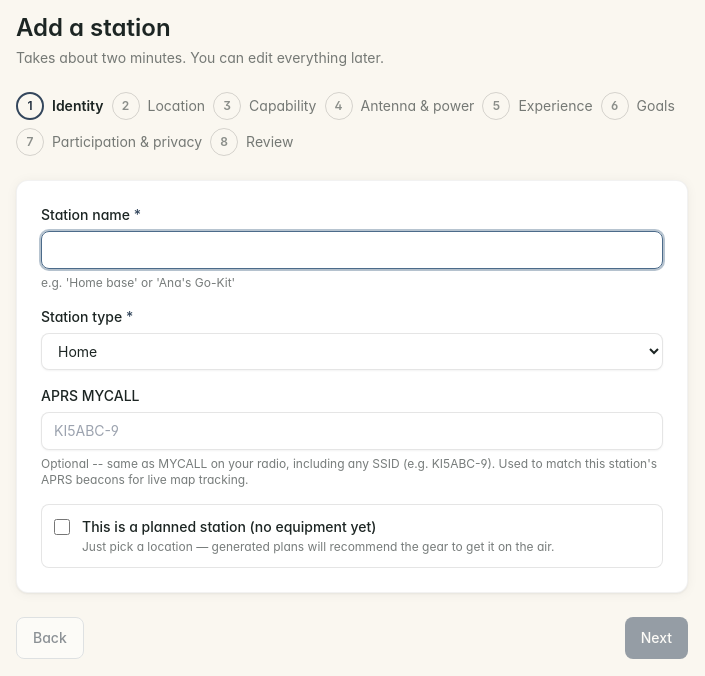
it: StationWizardPage › blocks moving past the identity step until a name is entered
Check: the button "Next" is disabled, box [625,617,688,659]
Type "Home base" into the field labelled "Station name *" at (352, 250), box [41,231,663,269]
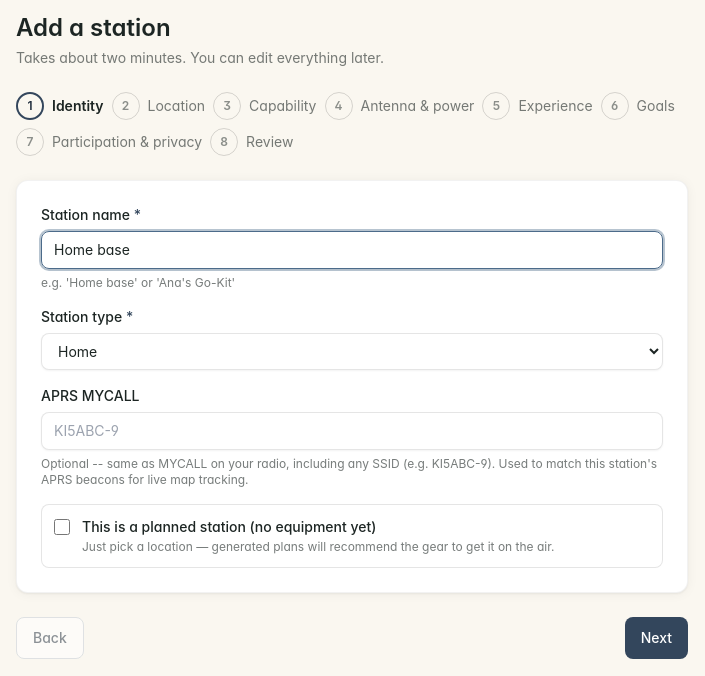
Check: the button "Next" is enabled, box [625,617,688,659]
